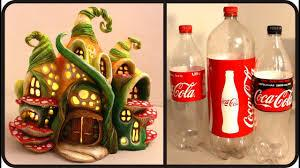Plastic bottle: (210, 4, 255, 157), (252, 13, 292, 159), (172, 20, 209, 149)
